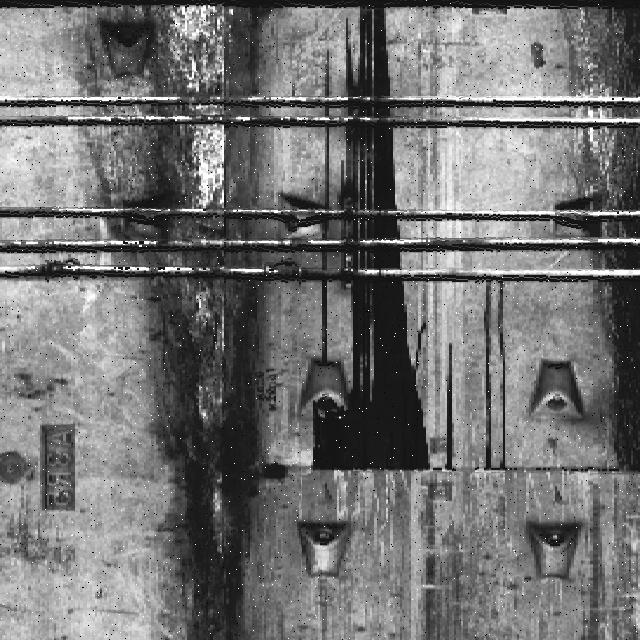leakage: (84, 9, 273, 640), (290, 4, 431, 474), (573, 1, 639, 475), (475, 281, 508, 472), (439, 342, 460, 474)
